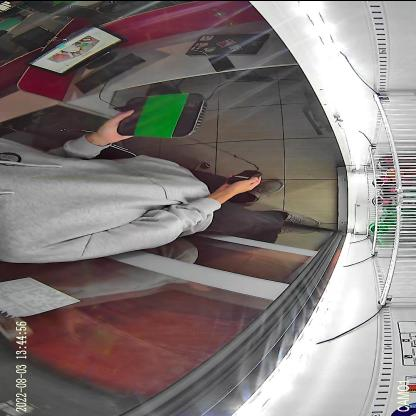green: (116, 92, 208, 138)
